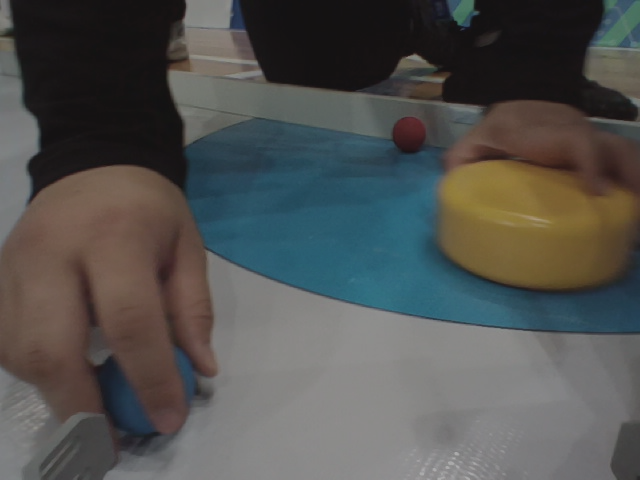blue: (89, 338, 201, 449)
red: (388, 112, 440, 152)
yellow: (436, 156, 640, 305)
